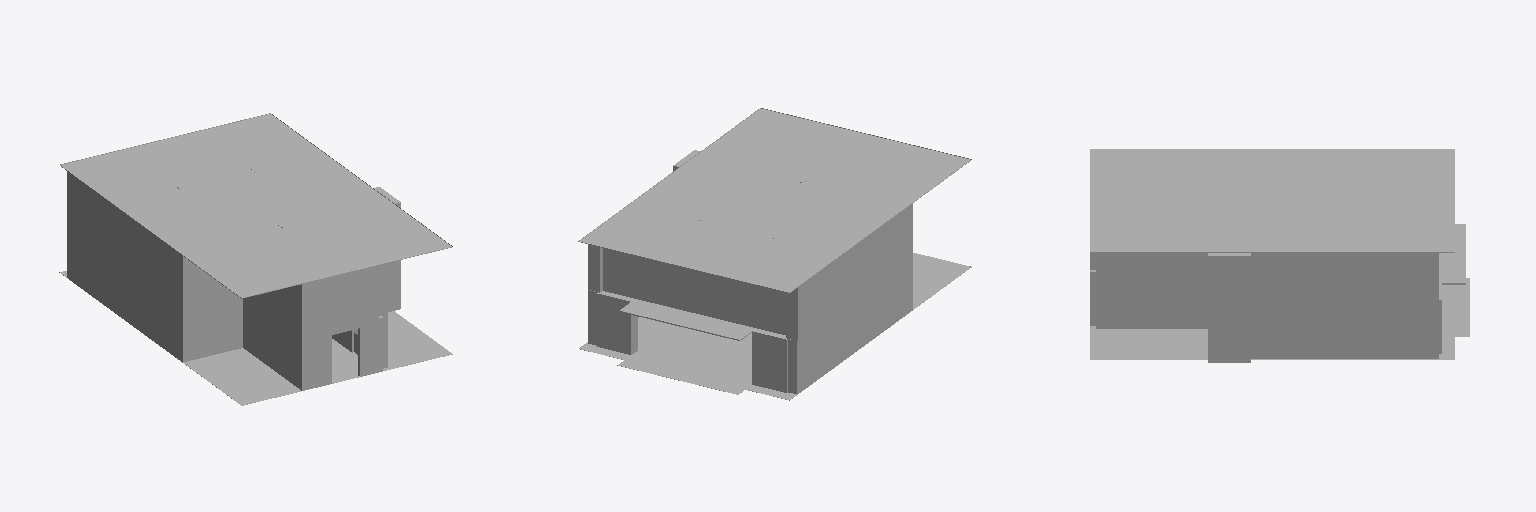
The model's file is LC_room1_endroom.obj.
3 renders of one model, left to right at view 1: azimuth 30°, elevation 25°; view 2: azimuth 150°, elevation 25°; view 3: azimuth 270°, elevation 25°, orthographic.
Parts seen in each view (by area): view 1: LC_room1_endroom; view 2: LC_room1_endroom; view 3: LC_room1_endroom.
Boxes of the visible parts, <box> form: LC_room1_endroom: <box>59,113,452,405</box>; LC_room1_endroom: <box>578,108,971,400</box>; LC_room1_endroom: <box>1090,149,1469,362</box>.
Bounding box in the file's own units: 15.04 × 7.09 × 22.64.